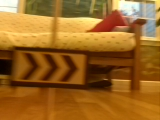right: (10, 47, 87, 87)
